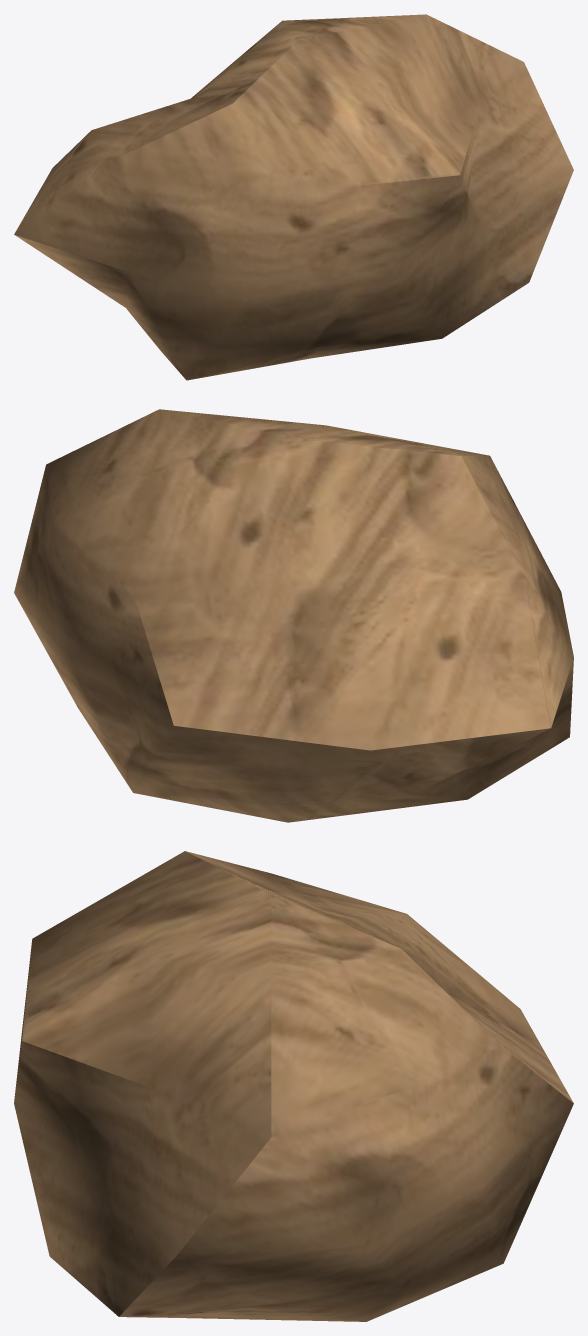
Rendered from rock_sand_0.glb.
3 views of the same model, one above another, from view 1: azimuth 30°, elevation 25°; view 2: azimuth 150°, elevation 25°; view 3: azimuth 270°, elevation 25° (orthographic). The views are drawn at different scales.
Parts seen in each view (by area): view 1: te_prop_rock_sand_0; view 2: te_prop_rock_sand_0; view 3: te_prop_rock_sand_0.
Part boxes in pixels (bbox=[...]): te_prop_rock_sand_0: bbox=[14, 14, 573, 380]; te_prop_rock_sand_0: bbox=[14, 409, 573, 822]; te_prop_rock_sand_0: bbox=[14, 851, 573, 1321].
Size of the model in its own units: 0.2377 by 0.1292 by 0.1826.
Materials: 1 (1 with a texture image).
